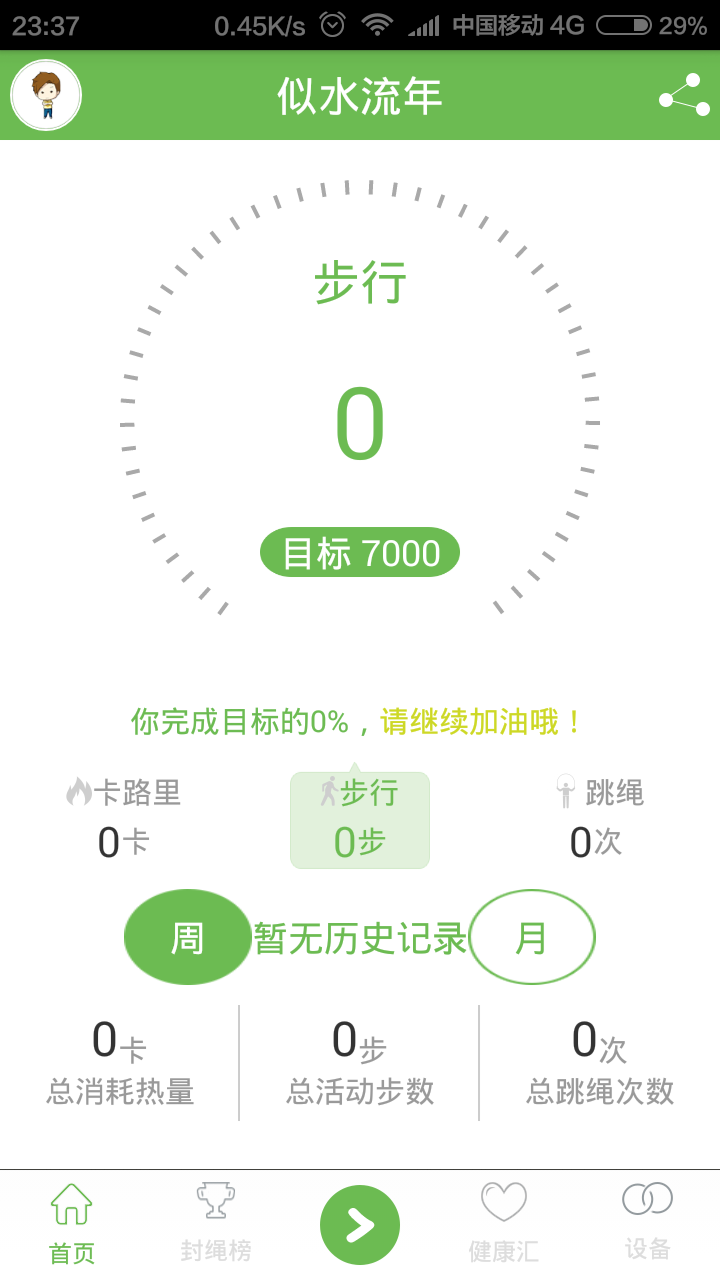imgview: (118, 169, 613, 635), (648, 67, 718, 127)
nav: (2, 1164, 720, 1276)
